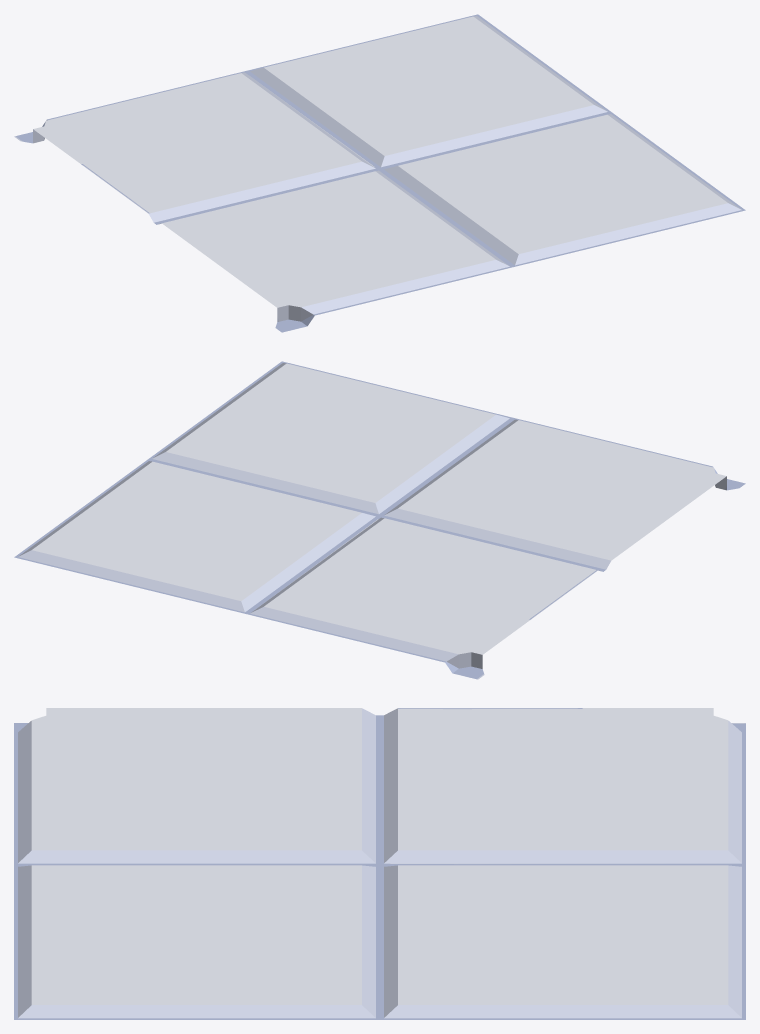
File: Tile_Floor_Side.fbx
3 renders of one model, top to bottom at view 1: azimuth 30°, elevation 25°; view 2: azimuth 150°, elevation 25°; view 3: azimuth 270°, elevation 25°, orthographic. The views are drawn at different scales.
Parts seen in each view (by area): view 1: TIle_Floor_Side; view 2: TIle_Floor_Side; view 3: TIle_Floor_Side.
Boxes of the visible parts, x1,y1,x2,y2 form: TIle_Floor_Side: (14, 14, 745, 332); TIle_Floor_Side: (14, 361, 745, 679); TIle_Floor_Side: (14, 708, 745, 1019).
Size of the model in its own units: 200 by 5.9 by 200.
Materials: 1 (1 with a texture image).
